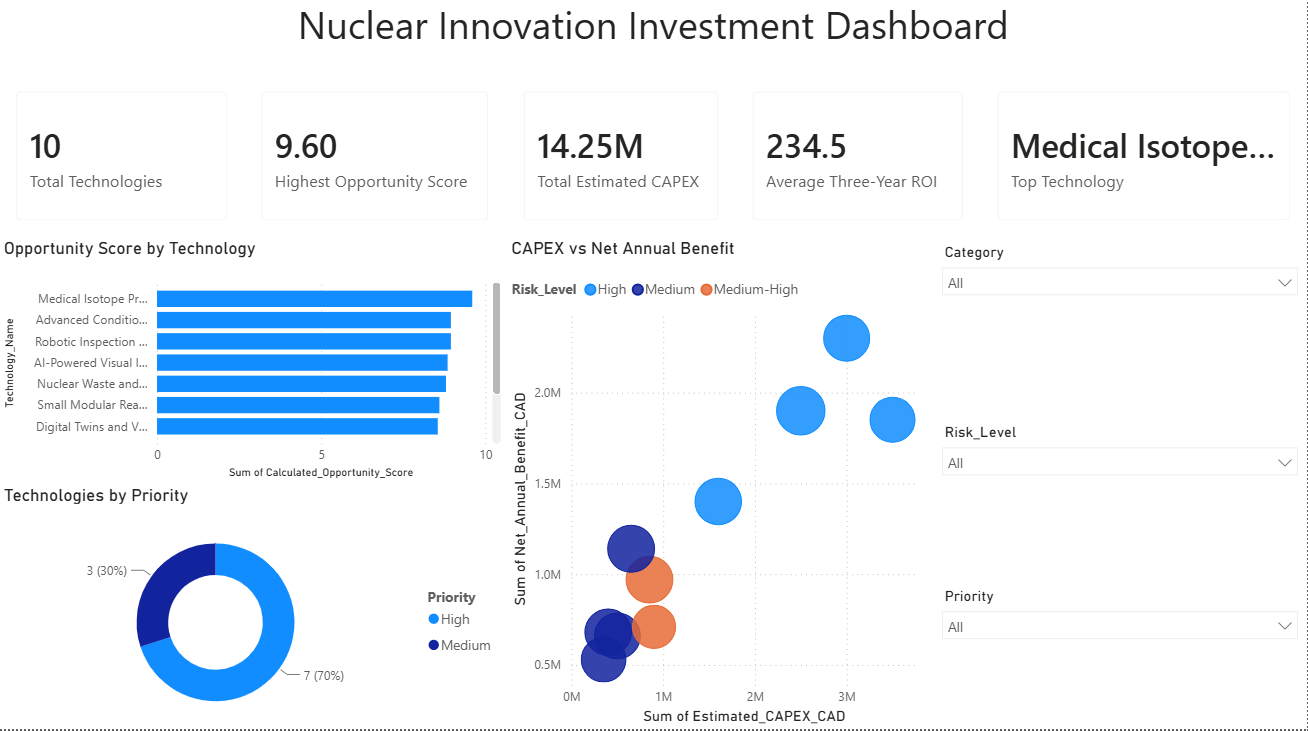

This screenshot's page, from the dashboard's own definition file:
{"tool":"powerbi","page":{"name":"Executive Overview","canvas":[1280,720],"ordinal":0},"visuals":[{"type":"textbox","box":[0,0,1280,80],"z":0},{"type":"cardVisual","fields":{"Data":["Nuclear Technology Analysis.Total Technologies"]},"box":[0,80,240,160],"z":1},{"type":"cardVisual","fields":{"Data":["Nuclear Technology Analysis.Highest Opportunity Score"]},"box":[240,80,256,160],"z":2},{"type":"cardVisual","fields":{"Data":["Nuclear Technology Analysis.Total Estimated CAPEX"]},"box":[496,80,224,160],"z":3},{"type":"cardVisual","fields":{"Data":["Nuclear Technology Analysis.Average Three-Year ROI"]},"box":[720,80,240,160],"z":4},{"type":"cardVisual","fields":{"Data":["Nuclear Technology Analysis.Top Technology"]},"box":[960,80,320,160],"z":5},{"type":"clusteredBarChart","title":"Opportunity Score by Technology","fields":{"Category":["Nuclear Technology Analysis.Technology_Name"],"Y":["Sum(Nuclear Technology Analysis.Calculated_Opportunity_Score)"]},"box":[0,240,496,304],"z":6},{"type":"scatterChart","title":"CAPEX vs Net Annual Benefit","fields":{"Category":["Nuclear Technology Analysis.Technology_Name"],"Series":["Nuclear Technology Analysis.Risk_Level"],"Size":["Sum(Nuclear Technology Analysis.Calculated_Opportunity_Score)"],"X":["Sum(Nuclear Technology Analysis.Estimated_CAPEX_CAD)"],"Y":["Sum(Nuclear Technology Analysis.Net_Annual_Benefit_CAD)"]},"box":[496,240,416,480],"z":7},{"type":"donutChart","title":"Technologies by Priority","fields":{"Category":["Nuclear Technology Analysis.Priority"],"Y":["CountNonNull(Nuclear Technology Analysis.Technology_ID)"]},"box":[0,544,496,176],"z":8},{"type":"slicer","fields":{"Values":["Nuclear Technology Analysis.Category"]},"box":[912,240,368,140],"z":9},{"type":"slicer","fields":{"Values":["Nuclear Technology Analysis.Risk_Level"]},"box":[912,416,368,140],"z":10},{"type":"slicer","fields":{"Values":["Nuclear Technology Analysis.Priority"]},"box":[912,576,368,140],"z":11}]}

Visuals, with their boxes in screenshot pixels (x1, y1, x2, y2), scaled from the page's 1280x720 canvas onto the 1308x731 screenshot:
textbox: left=0, top=0, right=1307, bottom=81
cardVisual - Nuclear Technology Analysis.Total Technologies: left=0, top=81, right=245, bottom=244
cardVisual - Nuclear Technology Analysis.Highest Opportunity Score: left=245, top=81, right=507, bottom=244
cardVisual - Nuclear Technology Analysis.Total Estimated CAPEX: left=507, top=81, right=736, bottom=244
cardVisual - Nuclear Technology Analysis.Average Three-Year ROI: left=736, top=81, right=981, bottom=244
cardVisual - Nuclear Technology Analysis.Top Technology: left=981, top=81, right=1307, bottom=244
"Opportunity Score by Technology" clusteredBarChart: left=0, top=244, right=507, bottom=552
"CAPEX vs Net Annual Benefit" scatterChart: left=507, top=244, right=932, bottom=730
"Technologies by Priority" donutChart: left=0, top=552, right=507, bottom=730
slicer - Nuclear Technology Analysis.Category: left=932, top=244, right=1307, bottom=386
slicer - Nuclear Technology Analysis.Risk_Level: left=932, top=422, right=1307, bottom=564
slicer - Nuclear Technology Analysis.Priority: left=932, top=585, right=1307, bottom=727
